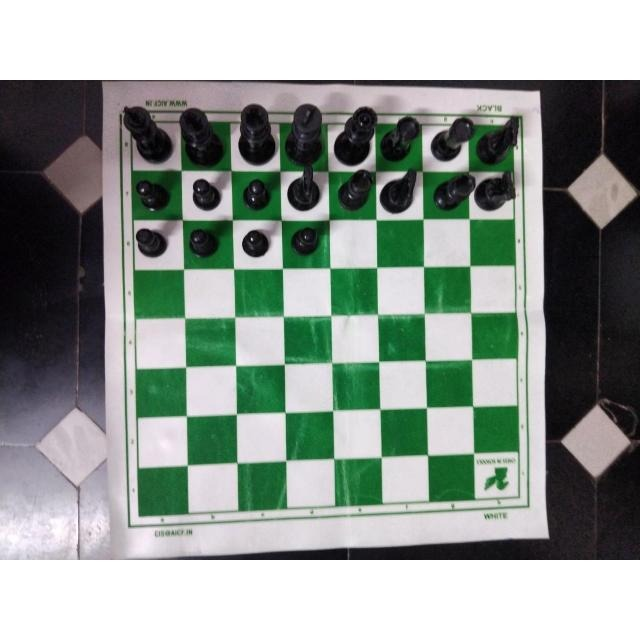black-bishop: (332, 166, 374, 218), (431, 168, 478, 212)
black-king: (120, 103, 176, 165), (177, 104, 227, 170), (284, 102, 328, 170), (235, 103, 279, 169)
black-knight: (476, 111, 523, 166), (474, 169, 519, 215), (379, 167, 419, 216), (286, 164, 325, 212)
black-pawn: (132, 174, 176, 212), (133, 222, 172, 261), (241, 175, 277, 217), (185, 226, 226, 262), (285, 222, 323, 259), (234, 225, 272, 261), (188, 174, 224, 211)
black-queen: (333, 103, 379, 167)
black-rook: (379, 113, 425, 165), (431, 115, 475, 163)
